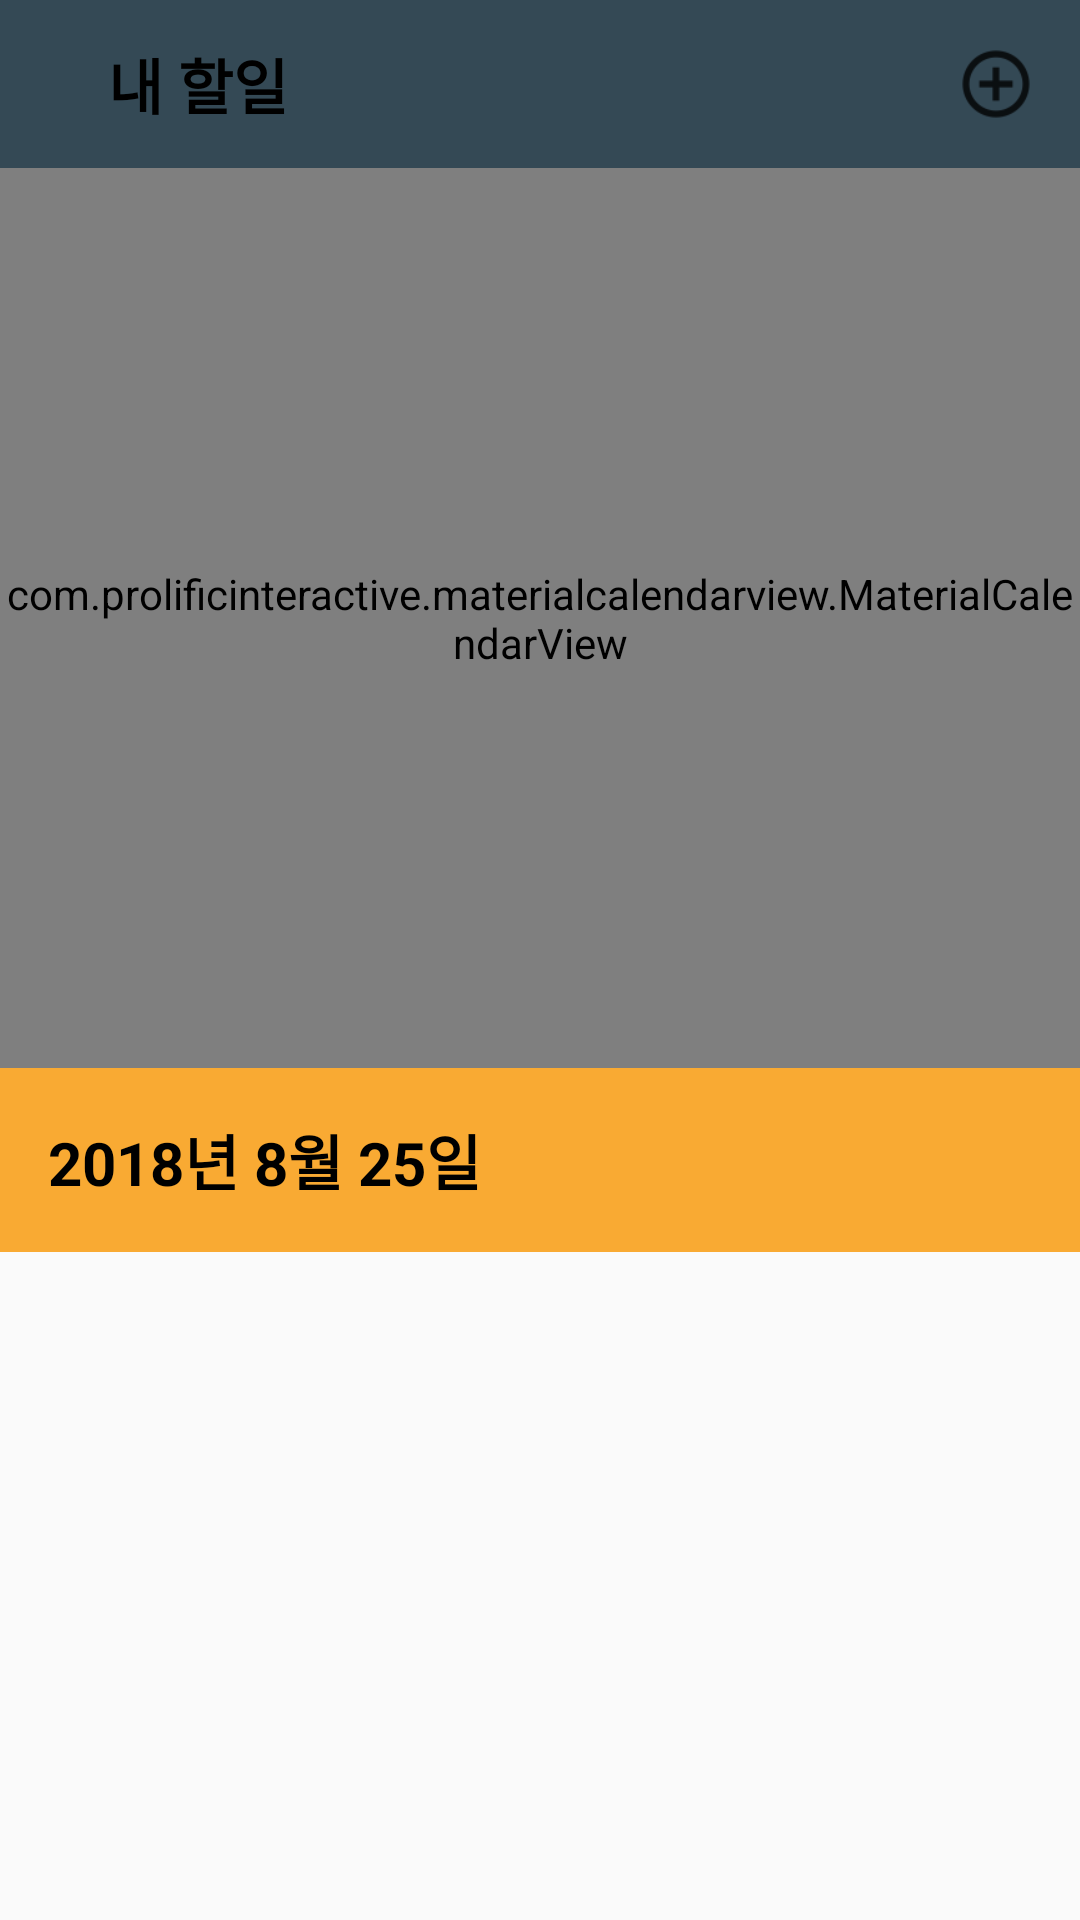

Point at icon controls on the screen. Image size 1080px×1920px, points as [x,y].
add circle: [996,84]
